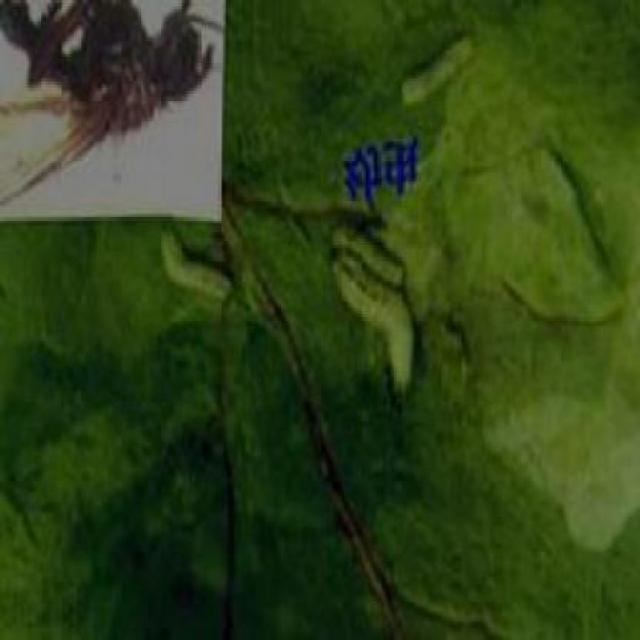whorl-maggot: (328, 217, 422, 406), (392, 29, 482, 111), (158, 225, 234, 312)
